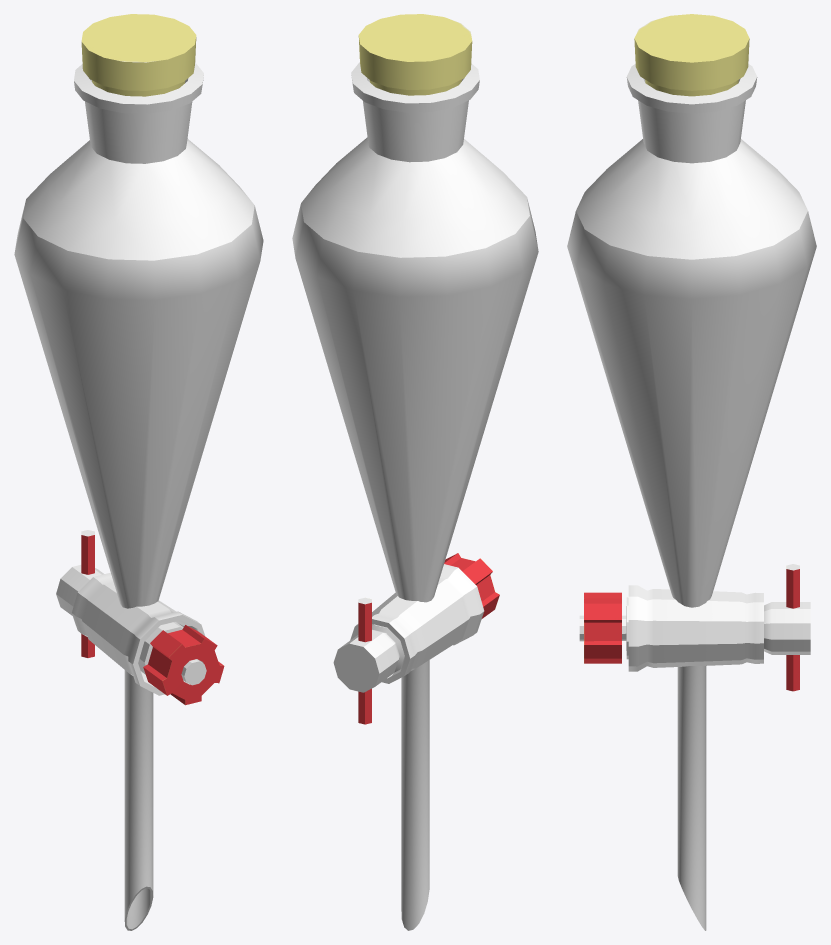
Rendered from separate_layers.fbx.
The picture shows the model from 3 angles, left to right: view 1: azimuth 30°, elevation 25°; view 2: azimuth 150°, elevation 25°; view 3: azimuth 270°, elevation 25°; orthographic projection.
Visible parts, largest first — view 1: polySurface12, separate_layers_top, polySurface21; view 2: polySurface12, separate_layers_top, polySurface21; view 3: polySurface12, separate_layers_top, polySurface21.
Part boxes in pixels (bbox=[...]): polySurface12: bbox=[14, 63, 263, 930]; separate_layers_top: bbox=[81, 14, 196, 96]; polySurface21: bbox=[56, 530, 224, 705]; polySurface12: bbox=[292, 62, 538, 930]; separate_layers_top: bbox=[358, 14, 472, 95]; polySurface21: bbox=[333, 553, 499, 724]; polySurface12: bbox=[567, 64, 816, 930]; separate_layers_top: bbox=[634, 14, 749, 96]; polySurface21: bbox=[579, 564, 810, 691].
Size of the model in its own units: 22.72 by 89.58 by 22.72.
Materials: 2 (2 with a texture image).
